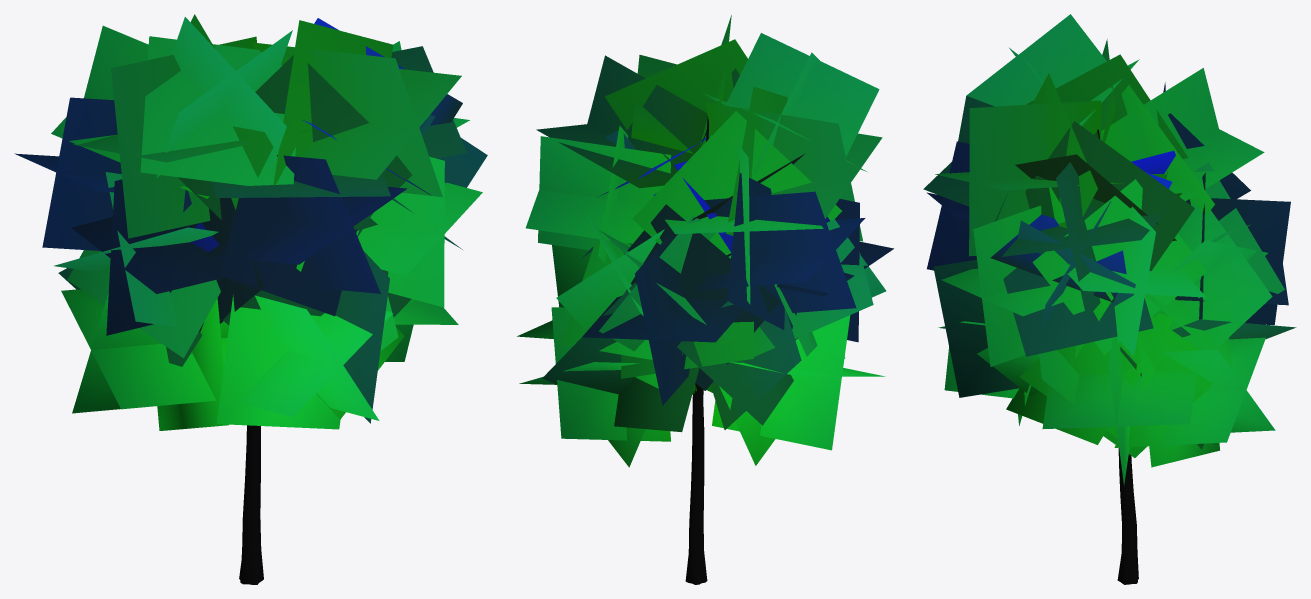
Rendered from Tree3_v2.fbx.
The picture shows the model from 3 angles, left to right: view 1: azimuth 30°, elevation 25°; view 2: azimuth 150°, elevation 25°; view 3: azimuth 270°, elevation 25°; orthographic projection. The views are drawn at different scales.
Parts seen in each view (by area): view 1: Tree_1, Tree_0; view 2: Tree_1, Tree_0; view 3: Tree_1, Tree_0.
Part boxes in pixels (x1,y1,x2,y2): Tree_1: (14,14,487,430); Tree_0: (239,425,263,584); Tree_1: (517,15,893,467); Tree_0: (650,116,742,584); Tree_1: (923,14,1296,485); Tree_0: (1097,129,1138,584).
Size of the model in its own units: 294 by 437 by 282.
